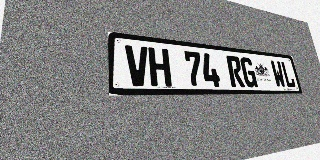4: (200, 53, 221, 87)
7: (183, 51, 204, 87)
G: (239, 57, 258, 87)
H: (148, 47, 172, 86)
L: (280, 61, 296, 88)
R: (226, 55, 245, 87)
V: (125, 45, 150, 86)
W: (270, 60, 286, 88)
